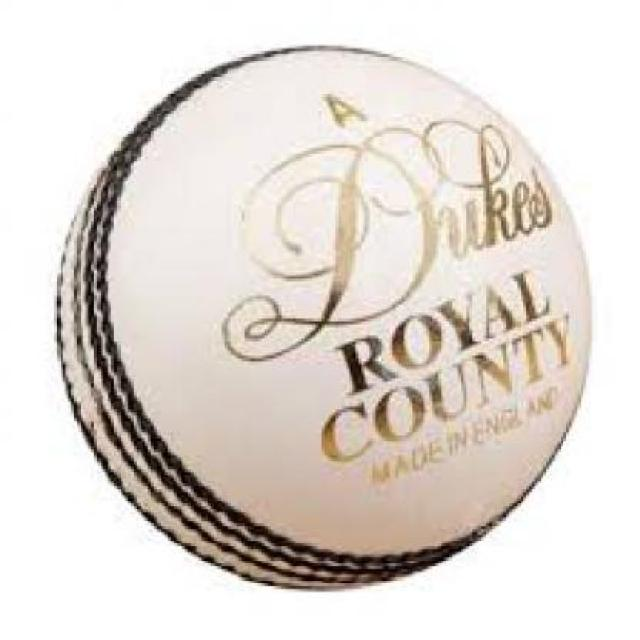ball: (31, 25, 640, 612)
